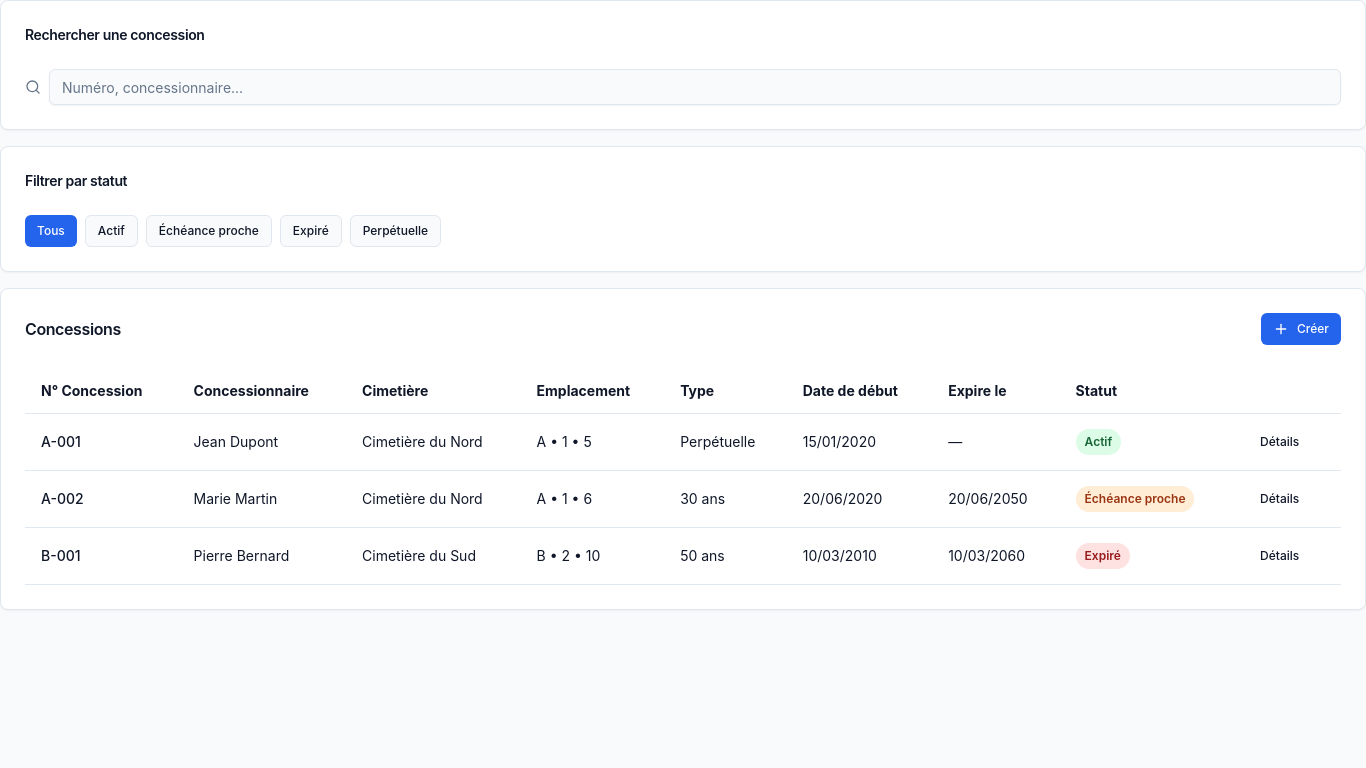
it: ConcessionsPage › filtre par statut EXPIREE
Expected: the text "A-001" is shown, [25,414,178,470]
Click the button "Expiré" at (311, 231), box [280,215,342,247]
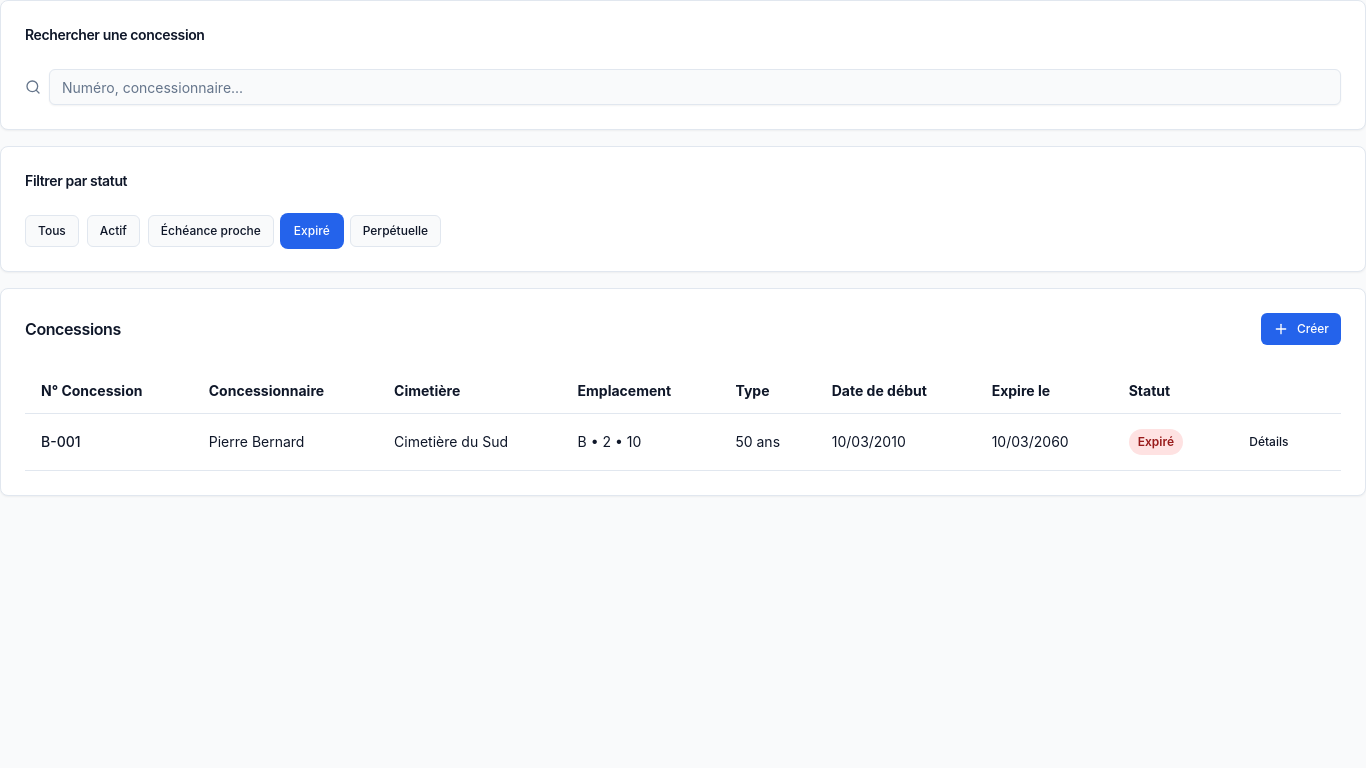
Expected: the text "B-001" is shown, [25,414,193,470]
Expected: the text "A-001" is gone
Expected: the text "A-002" is gone
